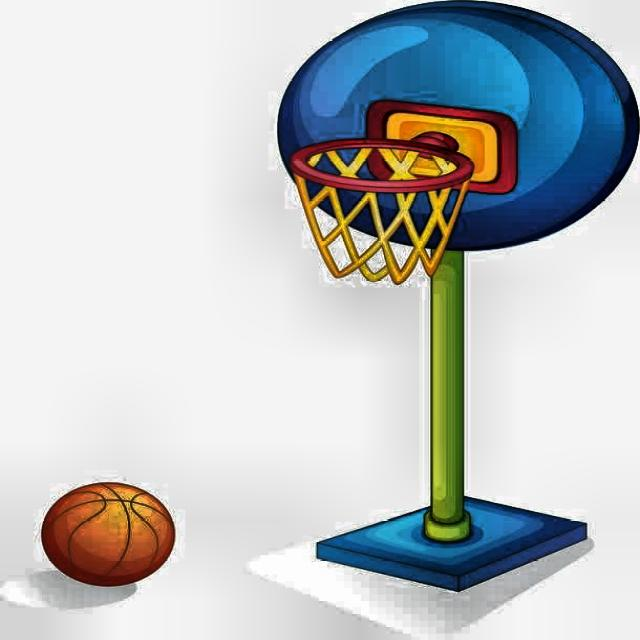rim: (42, 482, 176, 587)
